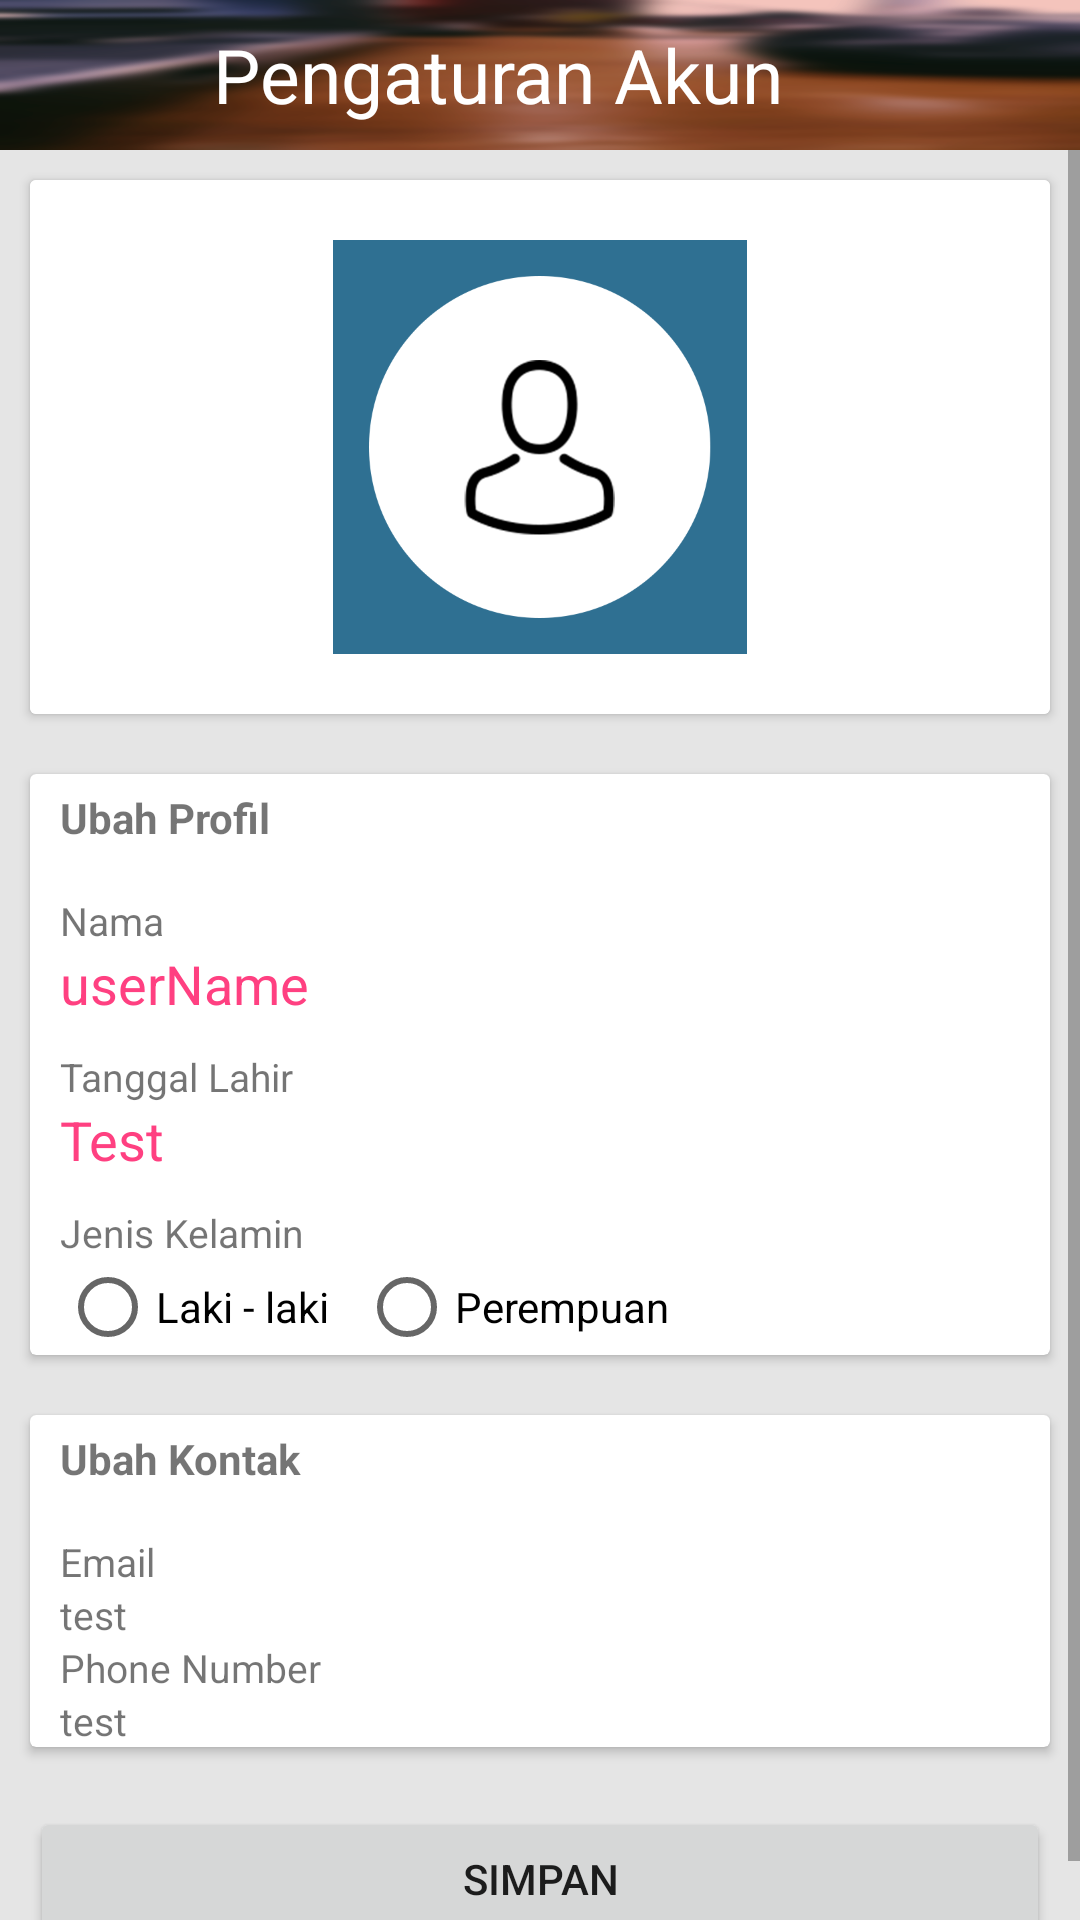

Icons on this 1080px x 1920px Android screen, each with the point to tap as (x,y):
user: (540,447)
